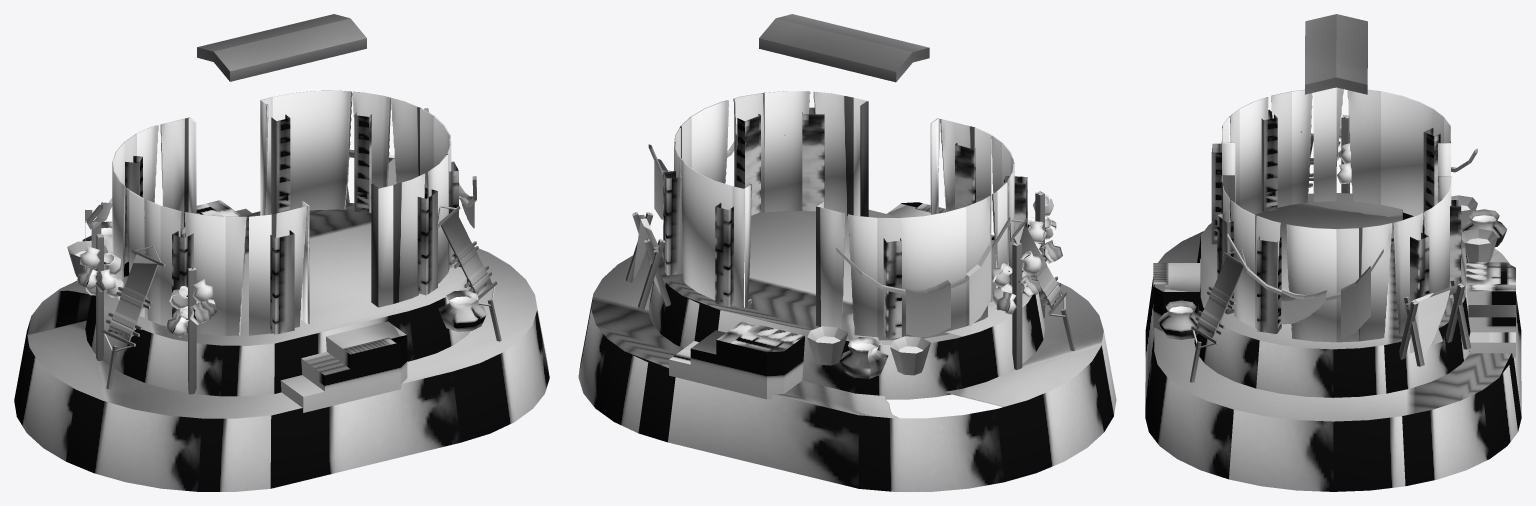
The model's file is house_04.dae.
The picture shows the model from 3 angles, left to right: view 1: azimuth 30°, elevation 25°; view 2: azimuth 150°, elevation 25°; view 3: azimuth 270°, elevation 25°; orthographic projection. The views are drawn at different scales.
Parts seen in each view (by area): view 1: house_04; view 2: house_04; view 3: house_04.
Part boxes in pixels (x1,y1,x2,y2): house_04: (14, 14, 549, 491); house_04: (578, 14, 1116, 491); house_04: (1145, 14, 1521, 491).
Size of the model in its own units: 18.26 by 13.08 by 12.88.
